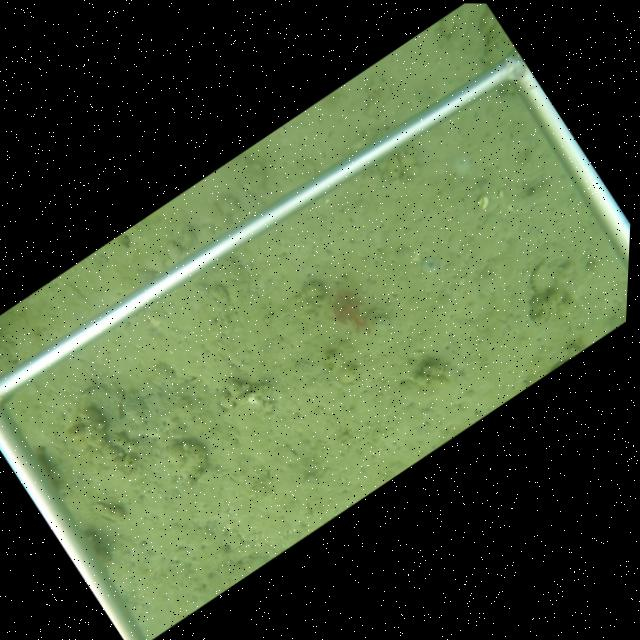Oyster-Closed: (88, 498, 128, 520)
